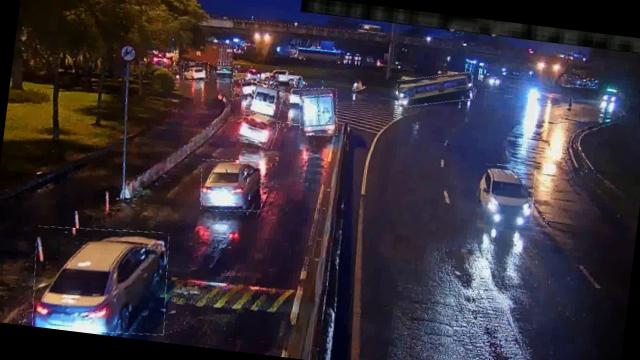Bus: (394, 68, 476, 112), (296, 85, 342, 138), (245, 82, 284, 116)
Car: (27, 219, 173, 341), (197, 155, 264, 215), (478, 163, 535, 225), (236, 110, 279, 148), (230, 74, 258, 100), (182, 60, 210, 82)
